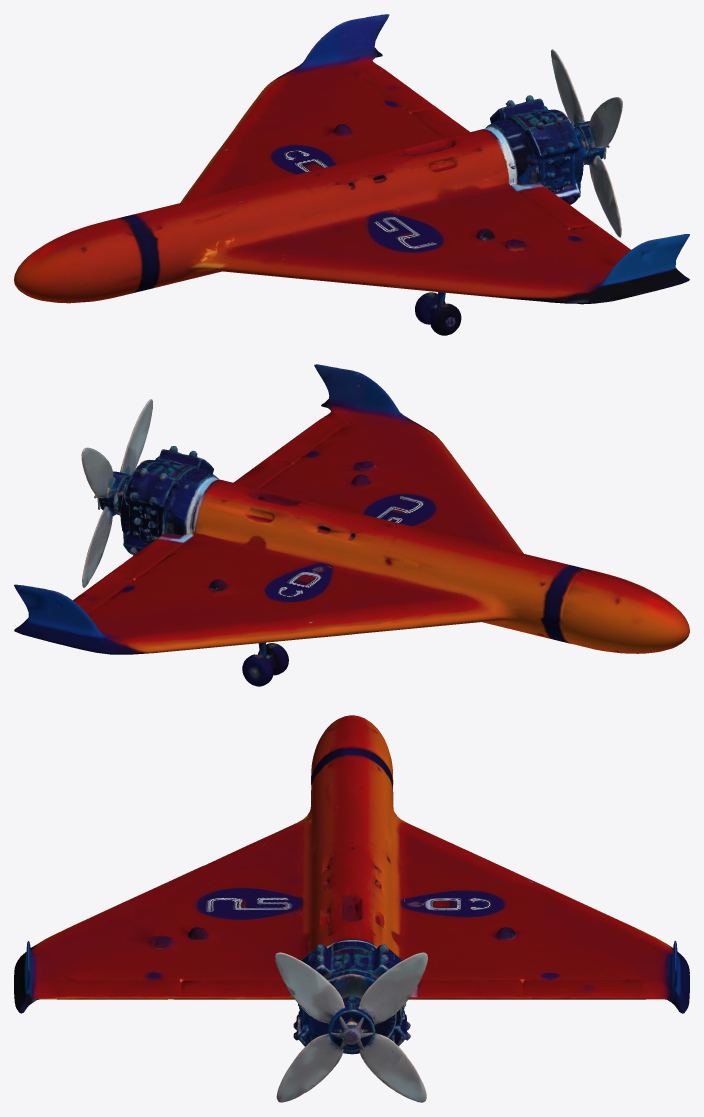
File: hostile-drone.glb
3 views of the same model, one above another, from view 1: azimuth 30°, elevation 25°; view 2: azimuth 150°, elevation 25°; view 3: azimuth 270°, elevation 25° (orthographic). The views are drawn at different scales.
Bounding box in the file's own units: 1.9 × 0.4542 × 1.75.
Materials: 1 (1 with a texture image).
